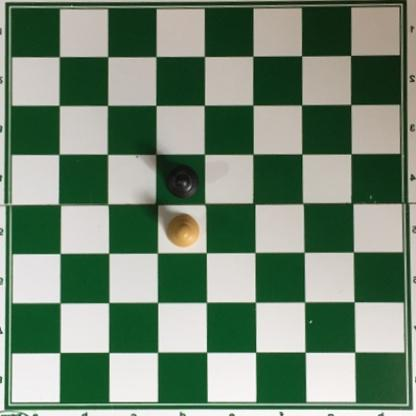black-pawn: (164, 163, 199, 199)
white-pawn: (164, 213, 200, 250)
